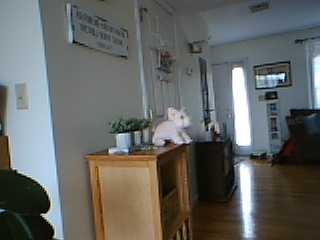piggy: (151, 106, 194, 145)
